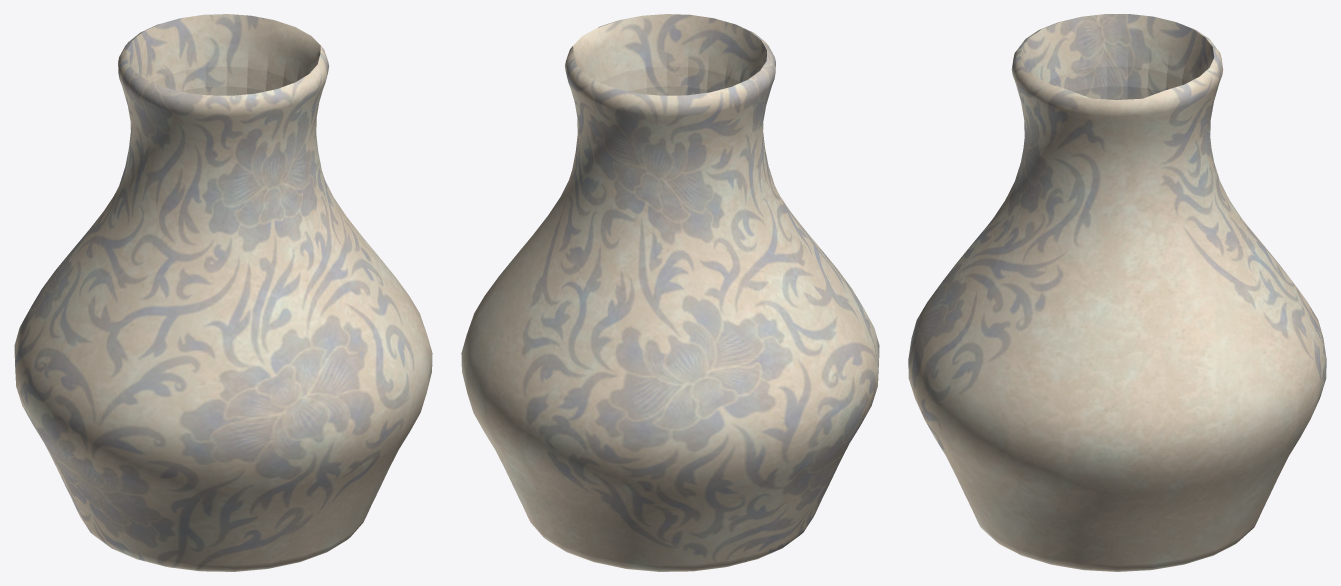
The model's file is obj_flower_vase_696435.glb.
3 renders of one model, left to right at view 1: azimuth 30°, elevation 25°; view 2: azimuth 150°, elevation 25°; view 3: azimuth 270°, elevation 25°, orthographic.
Parts seen in each view (by area): view 1: obj_flower_vase_696435; view 2: obj_flower_vase_696435; view 3: obj_flower_vase_696435.
Boxes of the visible parts, left/top/right/bottom form: obj_flower_vase_696435: left=14, top=14, right=432, bottom=571; obj_flower_vase_696435: left=461, top=14, right=879, bottom=571; obj_flower_vase_696435: left=908, top=14, right=1326, bottom=571.
Bounding box in the file's own units: 0.2872 × 0.35 × 0.2878.
Materials: 1 (1 with a texture image).
